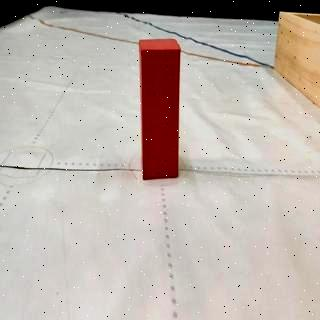redbox: (138, 38, 182, 180)
